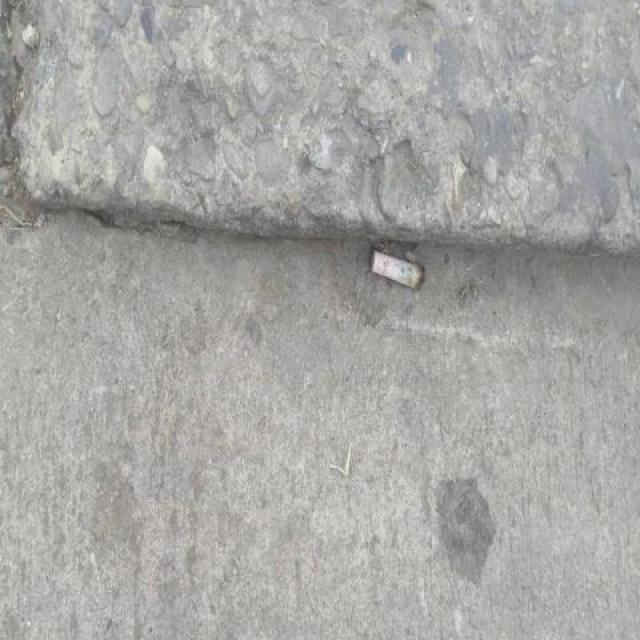non-organic waste: (367, 246, 428, 295)
